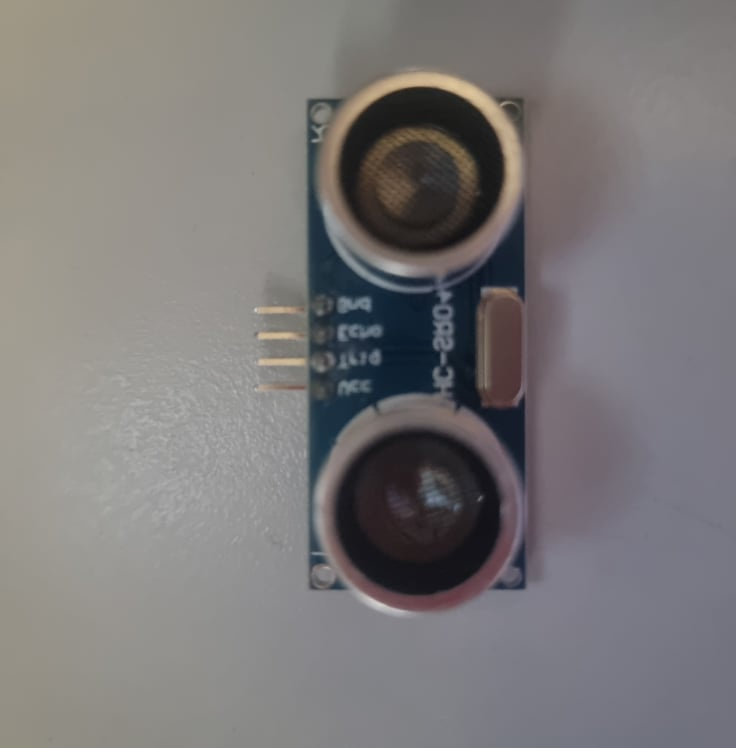SENSOR: (253, 67, 530, 626)
